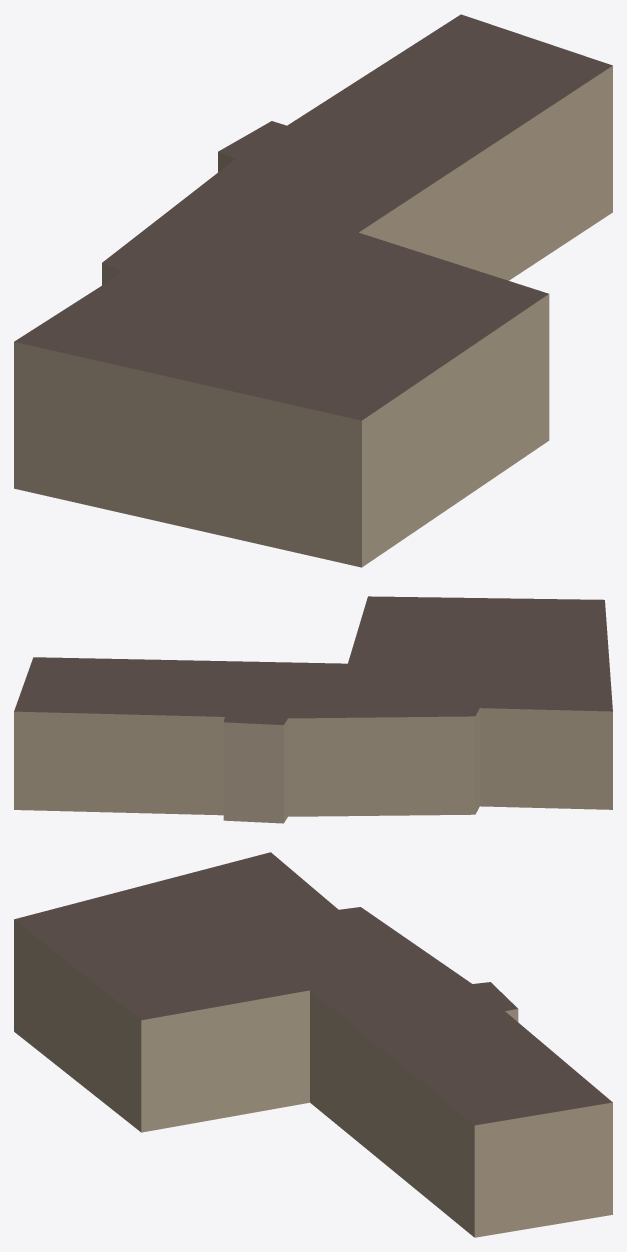
The picture shows the model from 3 angles, top to bottom: view 1: azimuth 30°, elevation 25°; view 2: azimuth 150°, elevation 25°; view 3: azimuth 270°, elevation 25°; orthographic projection. The views are drawn at different scales.
Parts seen in each view (by area): view 1: HP-w1515076978; view 2: HP-w1515076978; view 3: HP-w1515076978.
Part boxes in pixels (<box>): HP-w1515076978: <box>14,14,612,567</box>; HP-w1515076978: <box>14,596,612,823</box>; HP-w1515076978: <box>14,852,612,1237</box>.
Size of the model in its own units: 46.96 by 9 by 43.5.
